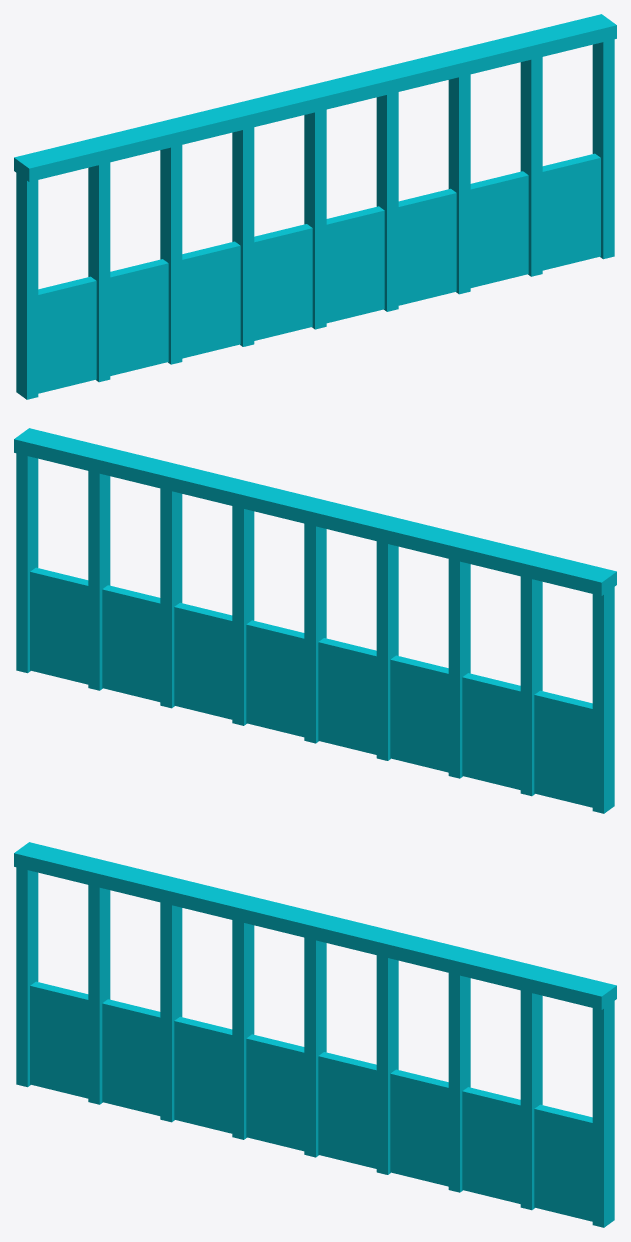
Rendered from Partitions_078.glb.
3 views of the same model, one above another, from view 1: azimuth 30°, elevation 25°; view 2: azimuth 150°, elevation 25°; view 3: azimuth 330°, elevation 25° (orthographic).
Parts seen in each view (by area): view 1: Partitions_078; view 2: Partitions_078; view 3: Partitions_078.
Part boxes in pixels (box(x1,y1,x2,y2)): Partitions_078: box(14, 14, 616, 399); Partitions_078: box(14, 428, 616, 813); Partitions_078: box(14, 842, 616, 1227).
Size of the model in its own units: 2 by 0.7574 by 0.0898.
Materials: 1 (1 with a texture image).
